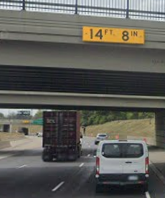1: (87, 26, 94, 41)
4: (93, 26, 104, 42)
8: (120, 27, 130, 43)
overheadsign: (80, 24, 146, 45)
